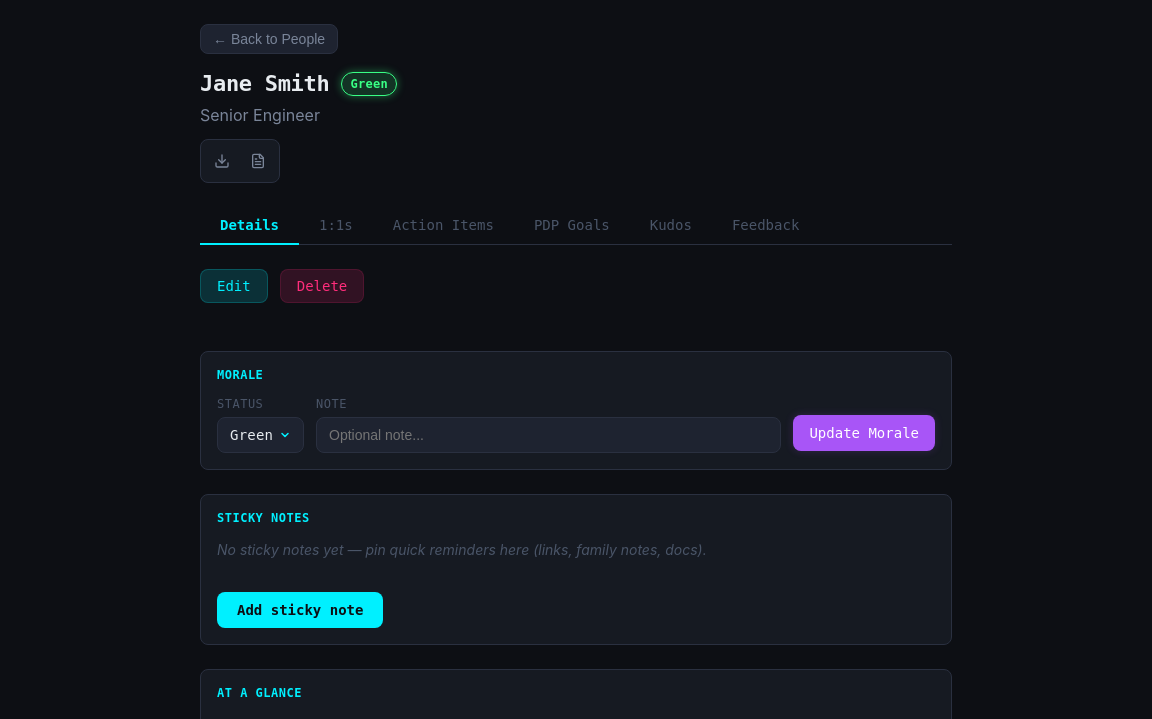
Test case: PersonDetailPage - Feedback Tab › opens the Create feedback link modal from the Feedback section header
What coordinates should you click on to do the following:
click the tab with test id "tab-feedback"
I would click on:
 (766, 226)
Its box is left=712, top=207, right=819, bottom=245.
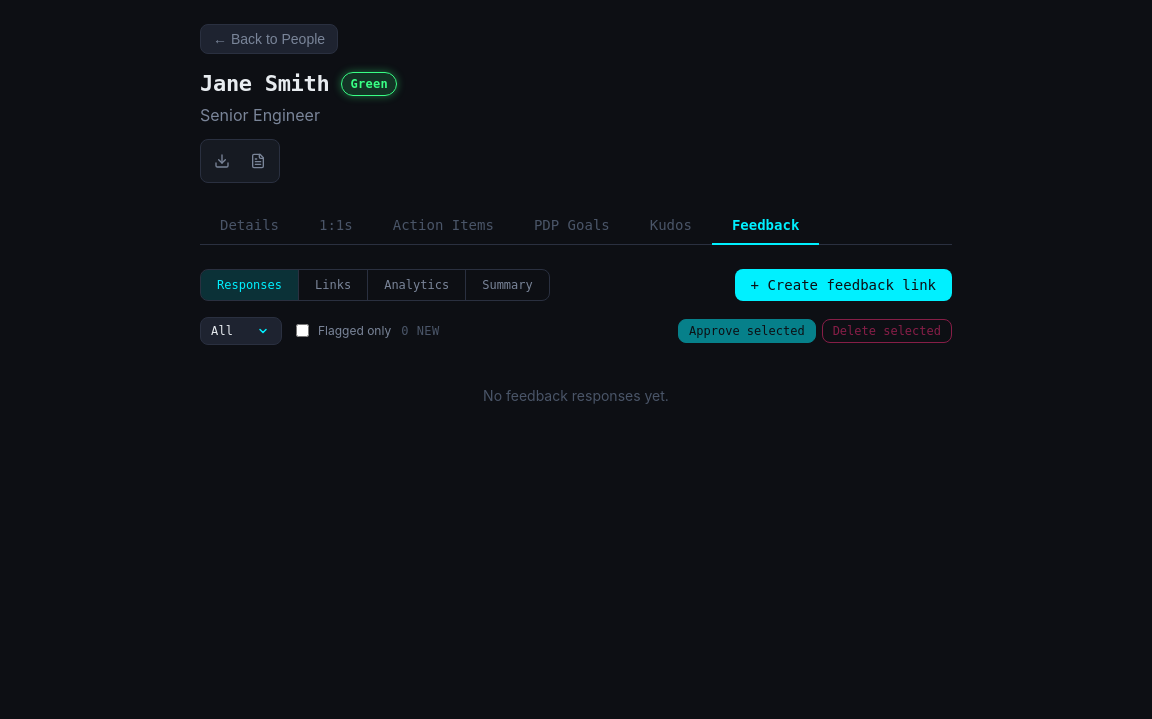
Result: the button with test id "feedback-create-link-button" shows "Create feedback link"
What coordinates should you click on to do the following:
click the button with test id "feedback-create-link-button"
I would click on:
 (843, 285)
Its box is left=735, top=269, right=952, bottom=301.
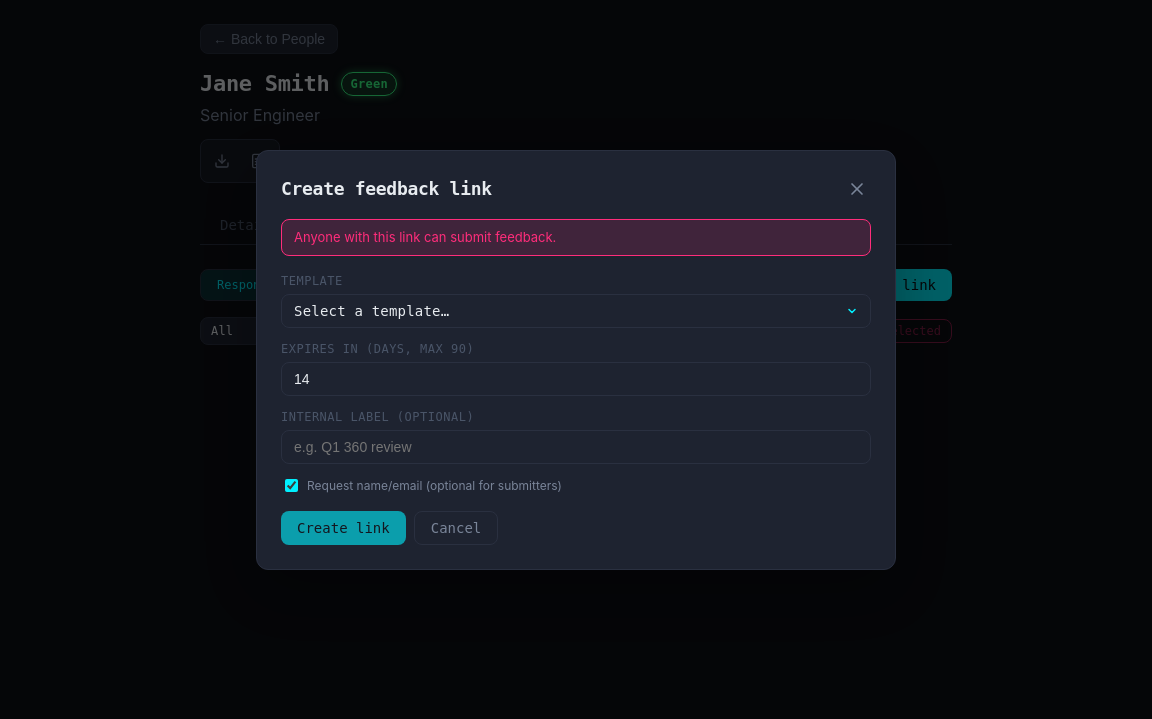
Result: the element with test id "create-feedback-link-modal" is shown at left=281, top=219, right=871, bottom=545
